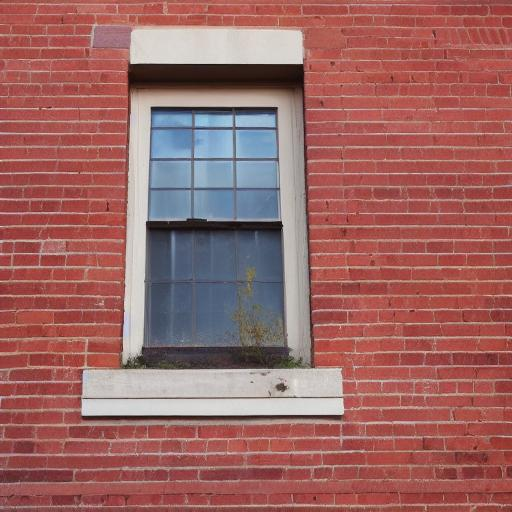Window: (79, 25, 348, 422)
